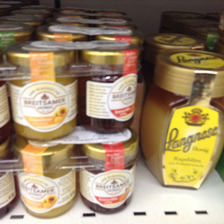honey: (143, 49, 224, 191), (6, 38, 80, 140), (80, 133, 142, 218), (12, 141, 78, 220), (83, 44, 142, 130)
